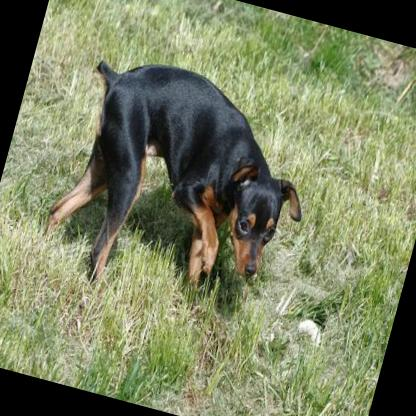miniature_pinscher: (31, 43, 330, 332)
